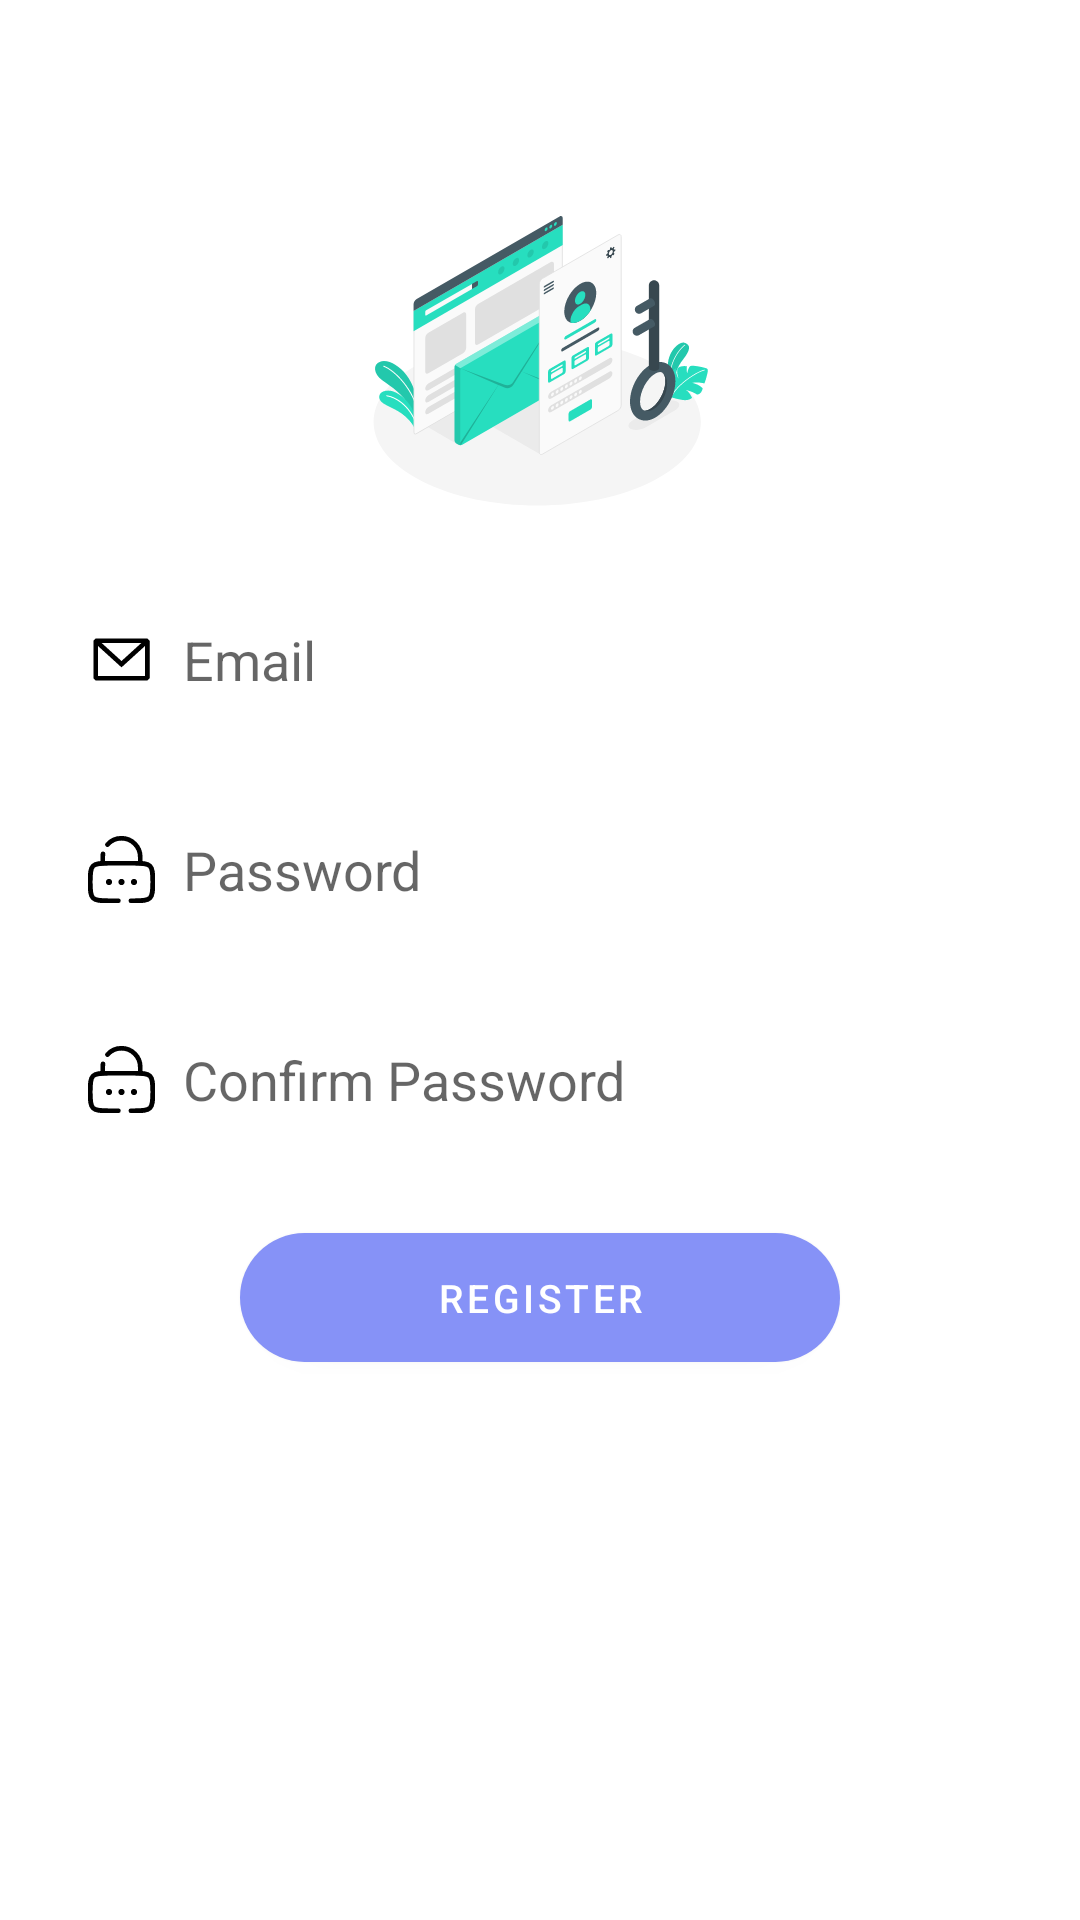

Screen size 1080px×1920px. Icon name, then its center in pixels as point (x, y):
registerimg: point (541, 335)
